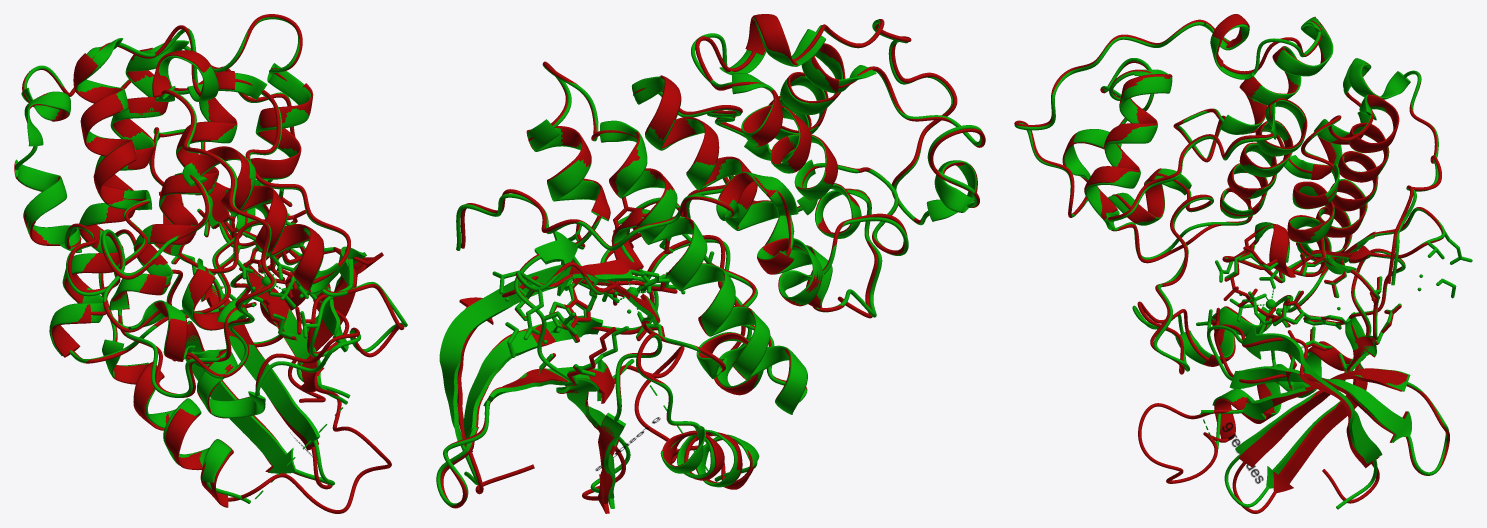
The model's file is sobreposicao.glb.
3 views of the same model, side by side, from view 1: azimuth 30°, elevation 25°; view 2: azimuth 150°, elevation 25°; view 3: azimuth 270°, elevation 25° (orthographic). The views are drawn at different scales.
Parts seen in each view (by area): view 1: ribbons mesh (×2), bonds (×2); view 2: ribbons mesh (×2), bonds (×2); view 3: ribbons mesh (×2), bonds (×2), atoms.
Boxes of the visible parts, <box> form: ribbons mesh (×2): <box>14,14,407,513</box>; bonds (×2): <box>149,137,335,339</box>; ribbons mesh (×2): <box>436,14,985,513</box>; bonds (×2): <box>492,197,713,386</box>; ribbons mesh (×2): <box>1014,14,1449,513</box>; bonds (×2): <box>1197,231,1471,386</box>; atoms: <box>1196,229,1472,386</box>.
Size of the model in its own units: 44.5 by 52.95 by 51.54.
Materials: 5 (1 with a texture image).
